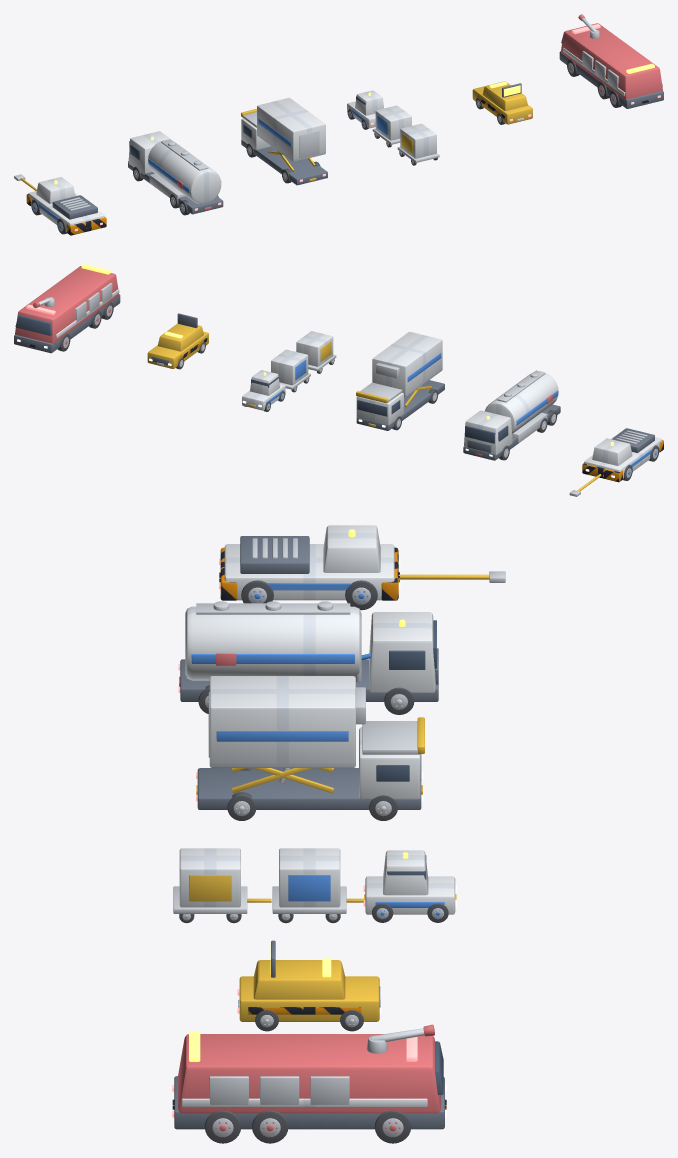
Rendered from ground_vehicles.glb.
The picture shows the model from 3 angles, top to bottom: view 1: azimuth 30°, elevation 25°; view 2: azimuth 150°, elevation 25°; view 3: azimuth 270°, elevation 25°; orthographic projection. The views are drawn at different scales.
Visible parts, largest first — view 1: ARFF_Body, Tanker_Body, Catering_Box_Body, Tug_Body, Catering_Chassis, FollowMe_Body, Dolly_Bed_ULD_2, Dolly_Bed_ULD_1, Tractor_Body; view 2: ARFF_Body, Tanker_Body, Catering_Box_Body, Tug_Body, Catering_Chassis, FollowMe_Body, Tractor_Body, Dolly_Bed_ULD_1, Dolly_Bed_ULD_2; view 3: ARFF_Body, Tanker_Body, Catering_Box_Body, Catering_Chassis, Tug_Body, FollowMe_Body, Dolly_Bed_ULD_1, Dolly_Bed_ULD_2, Tractor_Body, Catering_Scissor_Lift, ARFF_Wheel_FR, ARFF_Wheel_MR (+1 smaller).
Boxes of the visible parts, x1,y1,x2,y2 form: ARFF_Body: (559, 23, 663, 108); Tanker_Body: (128, 131, 223, 214); Catering_Box_Body: (257, 98, 325, 161); Tug_Body: (26, 177, 106, 235); Catering_Chassis: (241, 109, 327, 185); FollowMe_Body: (472, 81, 532, 124); Dolly_Bed_ULD_2: (397, 123, 439, 162); Dolly_Bed_ULD_1: (372, 105, 411, 144); Tractor_Body: (347, 90, 384, 128); ARFF_Body: (14, 264, 120, 353); Tanker_Body: (463, 370, 560, 460); Catering_Box_Body: (372, 331, 442, 396); Tug_Body: (582, 428, 663, 482); Catering_Chassis: (356, 380, 444, 430); FollowMe_Body: (147, 323, 208, 368); Tractor_Body: (242, 370, 285, 410); Dolly_Bed_ULD_1: (271, 349, 310, 389); Dolly_Bed_ULD_2: (296, 331, 336, 371); ARFF_Body: (172, 1031, 446, 1129); Tanker_Body: (178, 601, 438, 701); Catering_Box_Body: (208, 676, 365, 767); Catering_Chassis: (196, 717, 424, 809); Tug_Body: (219, 525, 400, 600); FollowMe_Body: (237, 958, 381, 1021); Dolly_Bed_ULD_1: (272, 848, 346, 913); Dolly_Bed_ULD_2: (173, 848, 247, 913); Tractor_Body: (363, 850, 456, 914); Catering_Scissor_Lift: (231, 768, 333, 793); ARFF_Wheel_FR: (374, 1110, 411, 1143); ARFF_Wheel_MR: (252, 1110, 288, 1143).
Bounding box in the file's own units: 42.91 × 4.01 × 10.59.
Materials: 13 (2 with a texture image).
